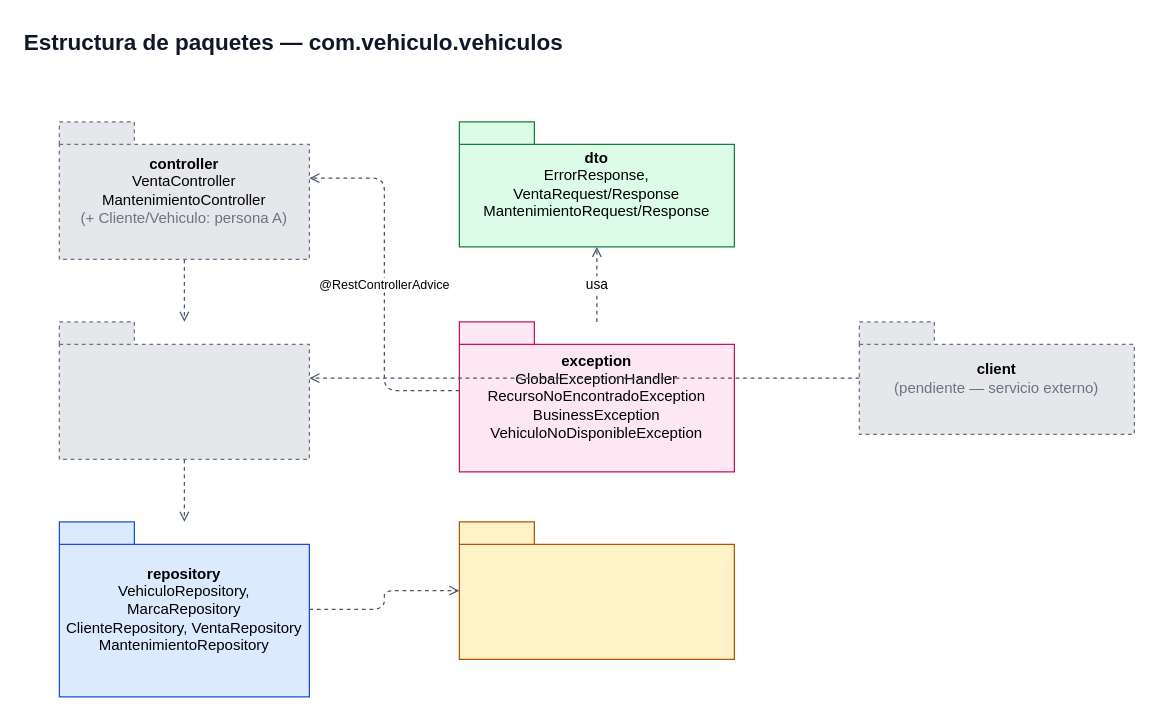
The diagram is 1156 pixels wide and 719 high, and some of its shapes have lost their labels. The centre of each missing label's shape, as x and y in pixels:
"entity Vehiculo, Marca, Cliente Venta, Mantenimiento EstadoVehiculo (enum)" belongs at point (596, 590).
"service VentaService MantenimientoService (+ Cliente/Vehiculo: persona A)" belongs at point (183, 390).
